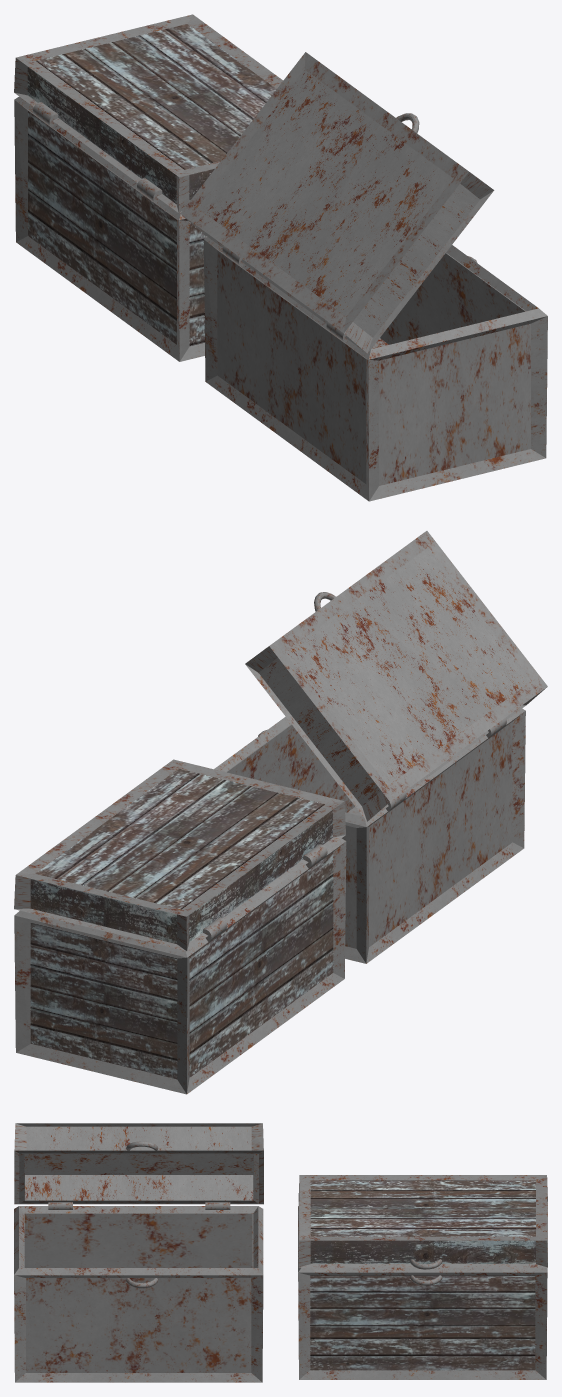
The model's file is Wood and Metalchest.fbx.
The picture shows the model from 3 angles, top to bottom: view 1: azimuth 30°, elevation 25°; view 2: azimuth 150°, elevation 25°; view 3: azimuth 270°, elevation 25°; orthographic projection. The views are drawn at different scales.
Visible parts, largest first — view 1: Korpus.001, Würfel.001, Würfel.002, Korpus, Schanier; view 2: Korpus, Würfel.001, Würfel.002, Korpus.001, Schanier; view 3: Korpus.001, Korpus, Würfel.002, Würfel.001, Schanier.001.
Boxes of the visible parts, left/top/right/bottom form: Korpus.001: left=203, top=237, right=547, bottom=501; Würfel.001: left=180, top=52, right=494, bottom=353; Würfel.002: left=14, top=14, right=283, bottom=212; Korpus: left=14, top=96, right=207, bottom=361; Schanier: left=33, top=102, right=162, bottom=203; Korpus: left=14, top=838, right=346, bottom=1094; Würfel.001: left=245, top=531, right=547, bottom=821; Würfel.002: left=14, top=759, right=345, bottom=951; Korpus.001: left=214, top=708, right=525, bottom=963; Schanier: left=203, top=844, right=327, bottom=941; Korpus.001: left=14, top=1206, right=263, bottom=1382; Korpus: left=298, top=1206, right=547, bottom=1379; Würfel.002: left=298, top=1175, right=547, bottom=1267; Würfel.001: left=14, top=1123, right=263, bottom=1204; Schanier.001: left=48, top=1202, right=230, bottom=1209.
Size of the model in its own units: 256 by 347 by 728.
3 materials, 3 textured.
